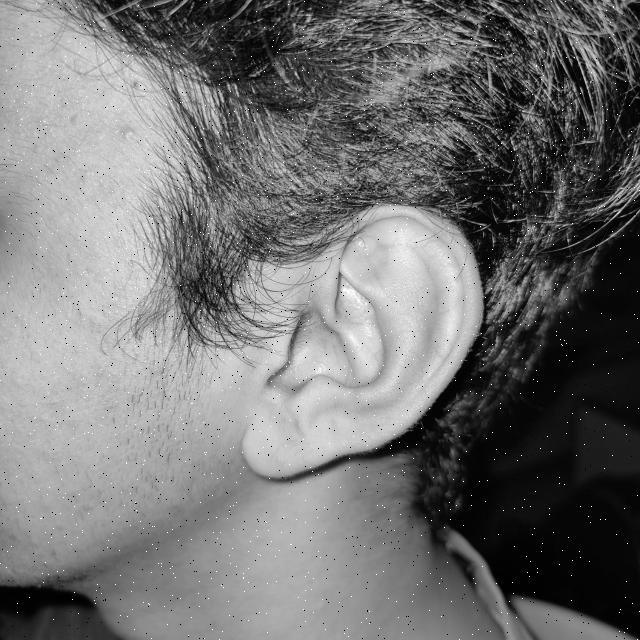ear: (243, 205, 482, 478)
